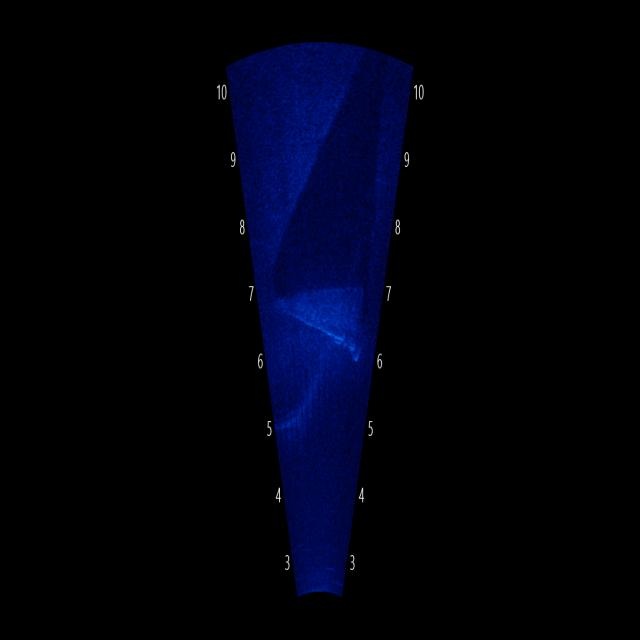triangle: (275, 280, 368, 363)
